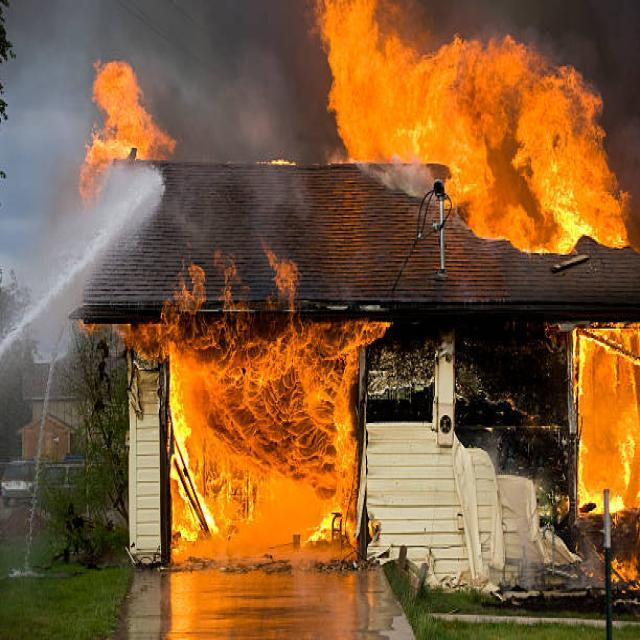Fire: (297, 0, 639, 258), (166, 306, 352, 585), (76, 59, 168, 194), (576, 328, 640, 510)
Smoke: (140, 0, 322, 276), (510, 0, 640, 120)
